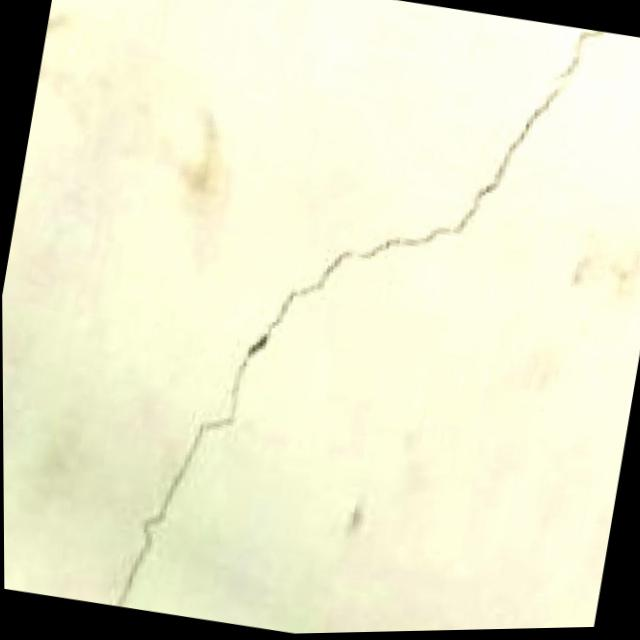Crack: (77, 0, 618, 639)
